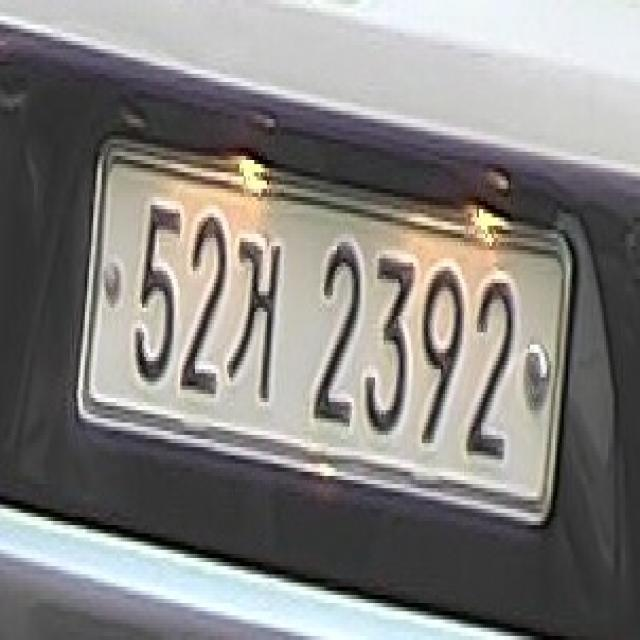2: (308, 227, 358, 445), (467, 272, 515, 475), (184, 211, 227, 407)
3: (363, 237, 417, 444)
5: (134, 184, 182, 404)
9: (416, 260, 466, 470)
geo: (232, 227, 282, 418)
license_plate: (60, 124, 583, 556)
